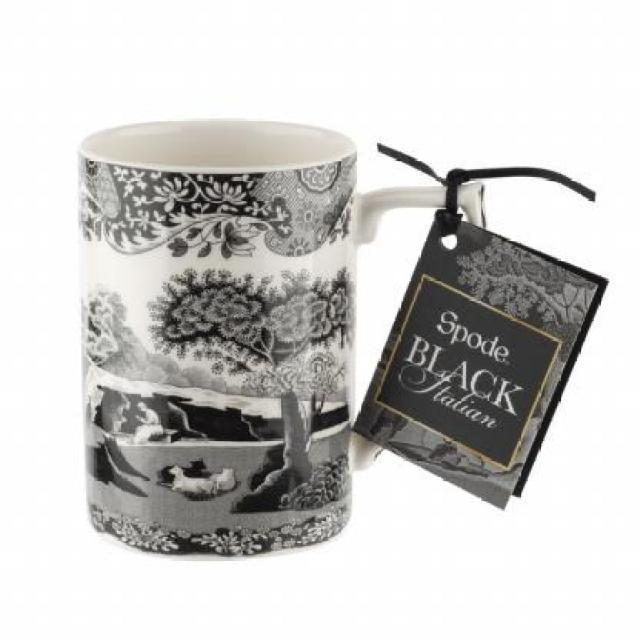taza: (76, 118, 494, 559)
